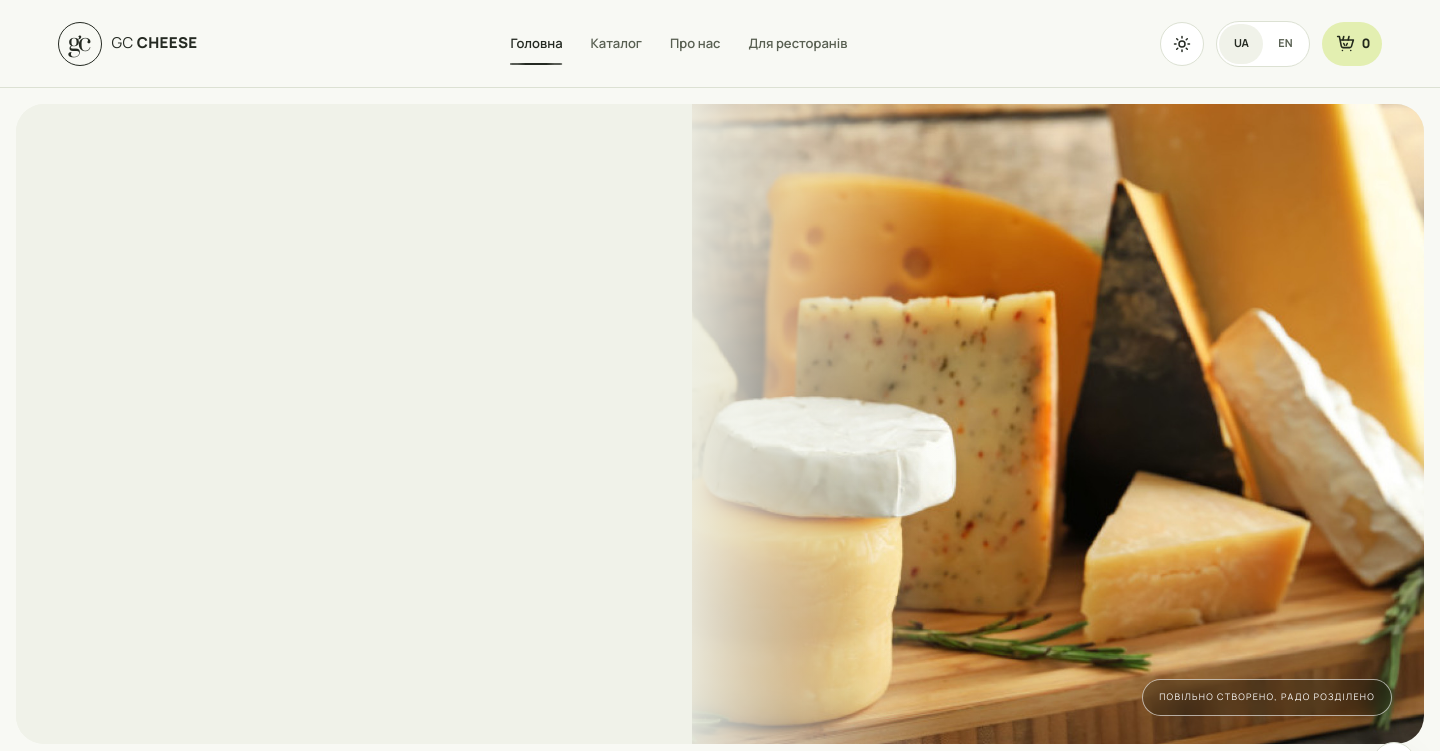
Test: GC Cheese UI/UX Storefront › filters catalog products and keeps products visible
# Navigate to catalog
Click the link "Каталог": (616, 43) [590,34,642,52]
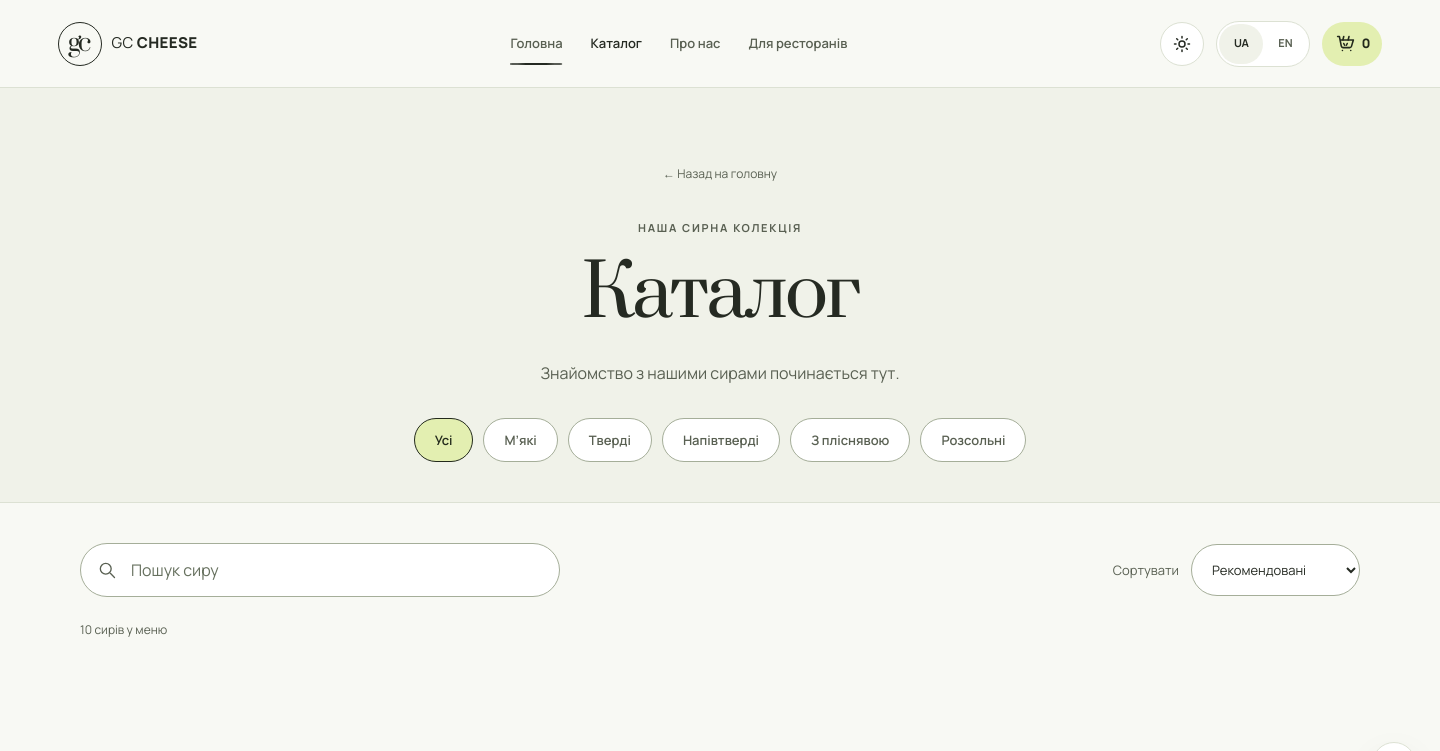
Now the tab "Усі" is shown, box [414,418,474,462]
Click the tab "М’які": (521, 440) [484,418,558,462]
(page scrolled)
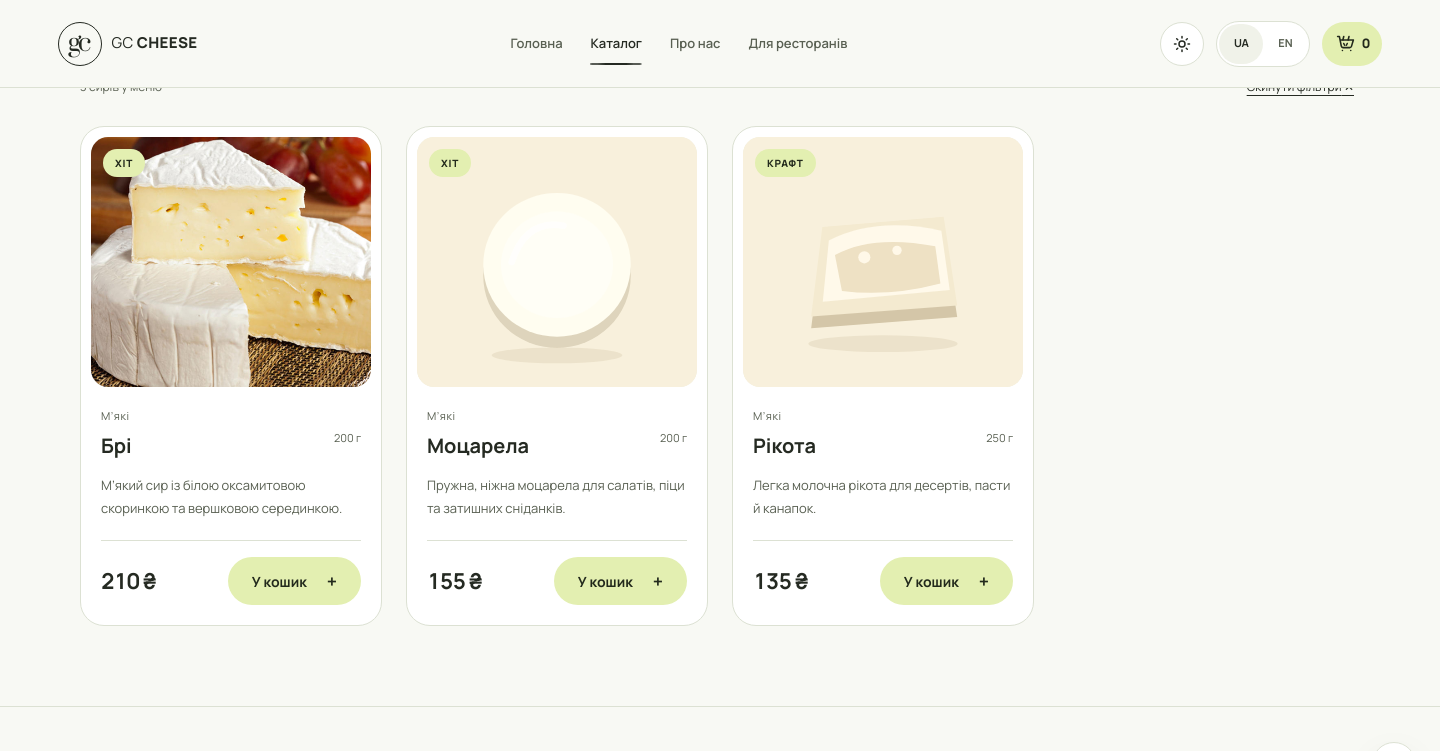
Now the heading "Брі" is shown, box [101,430,132,462]
